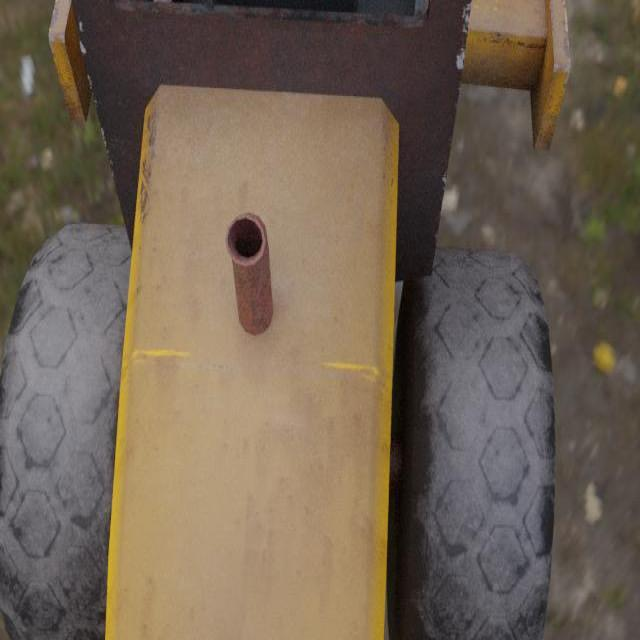Roller: (0, 0, 571, 640)
